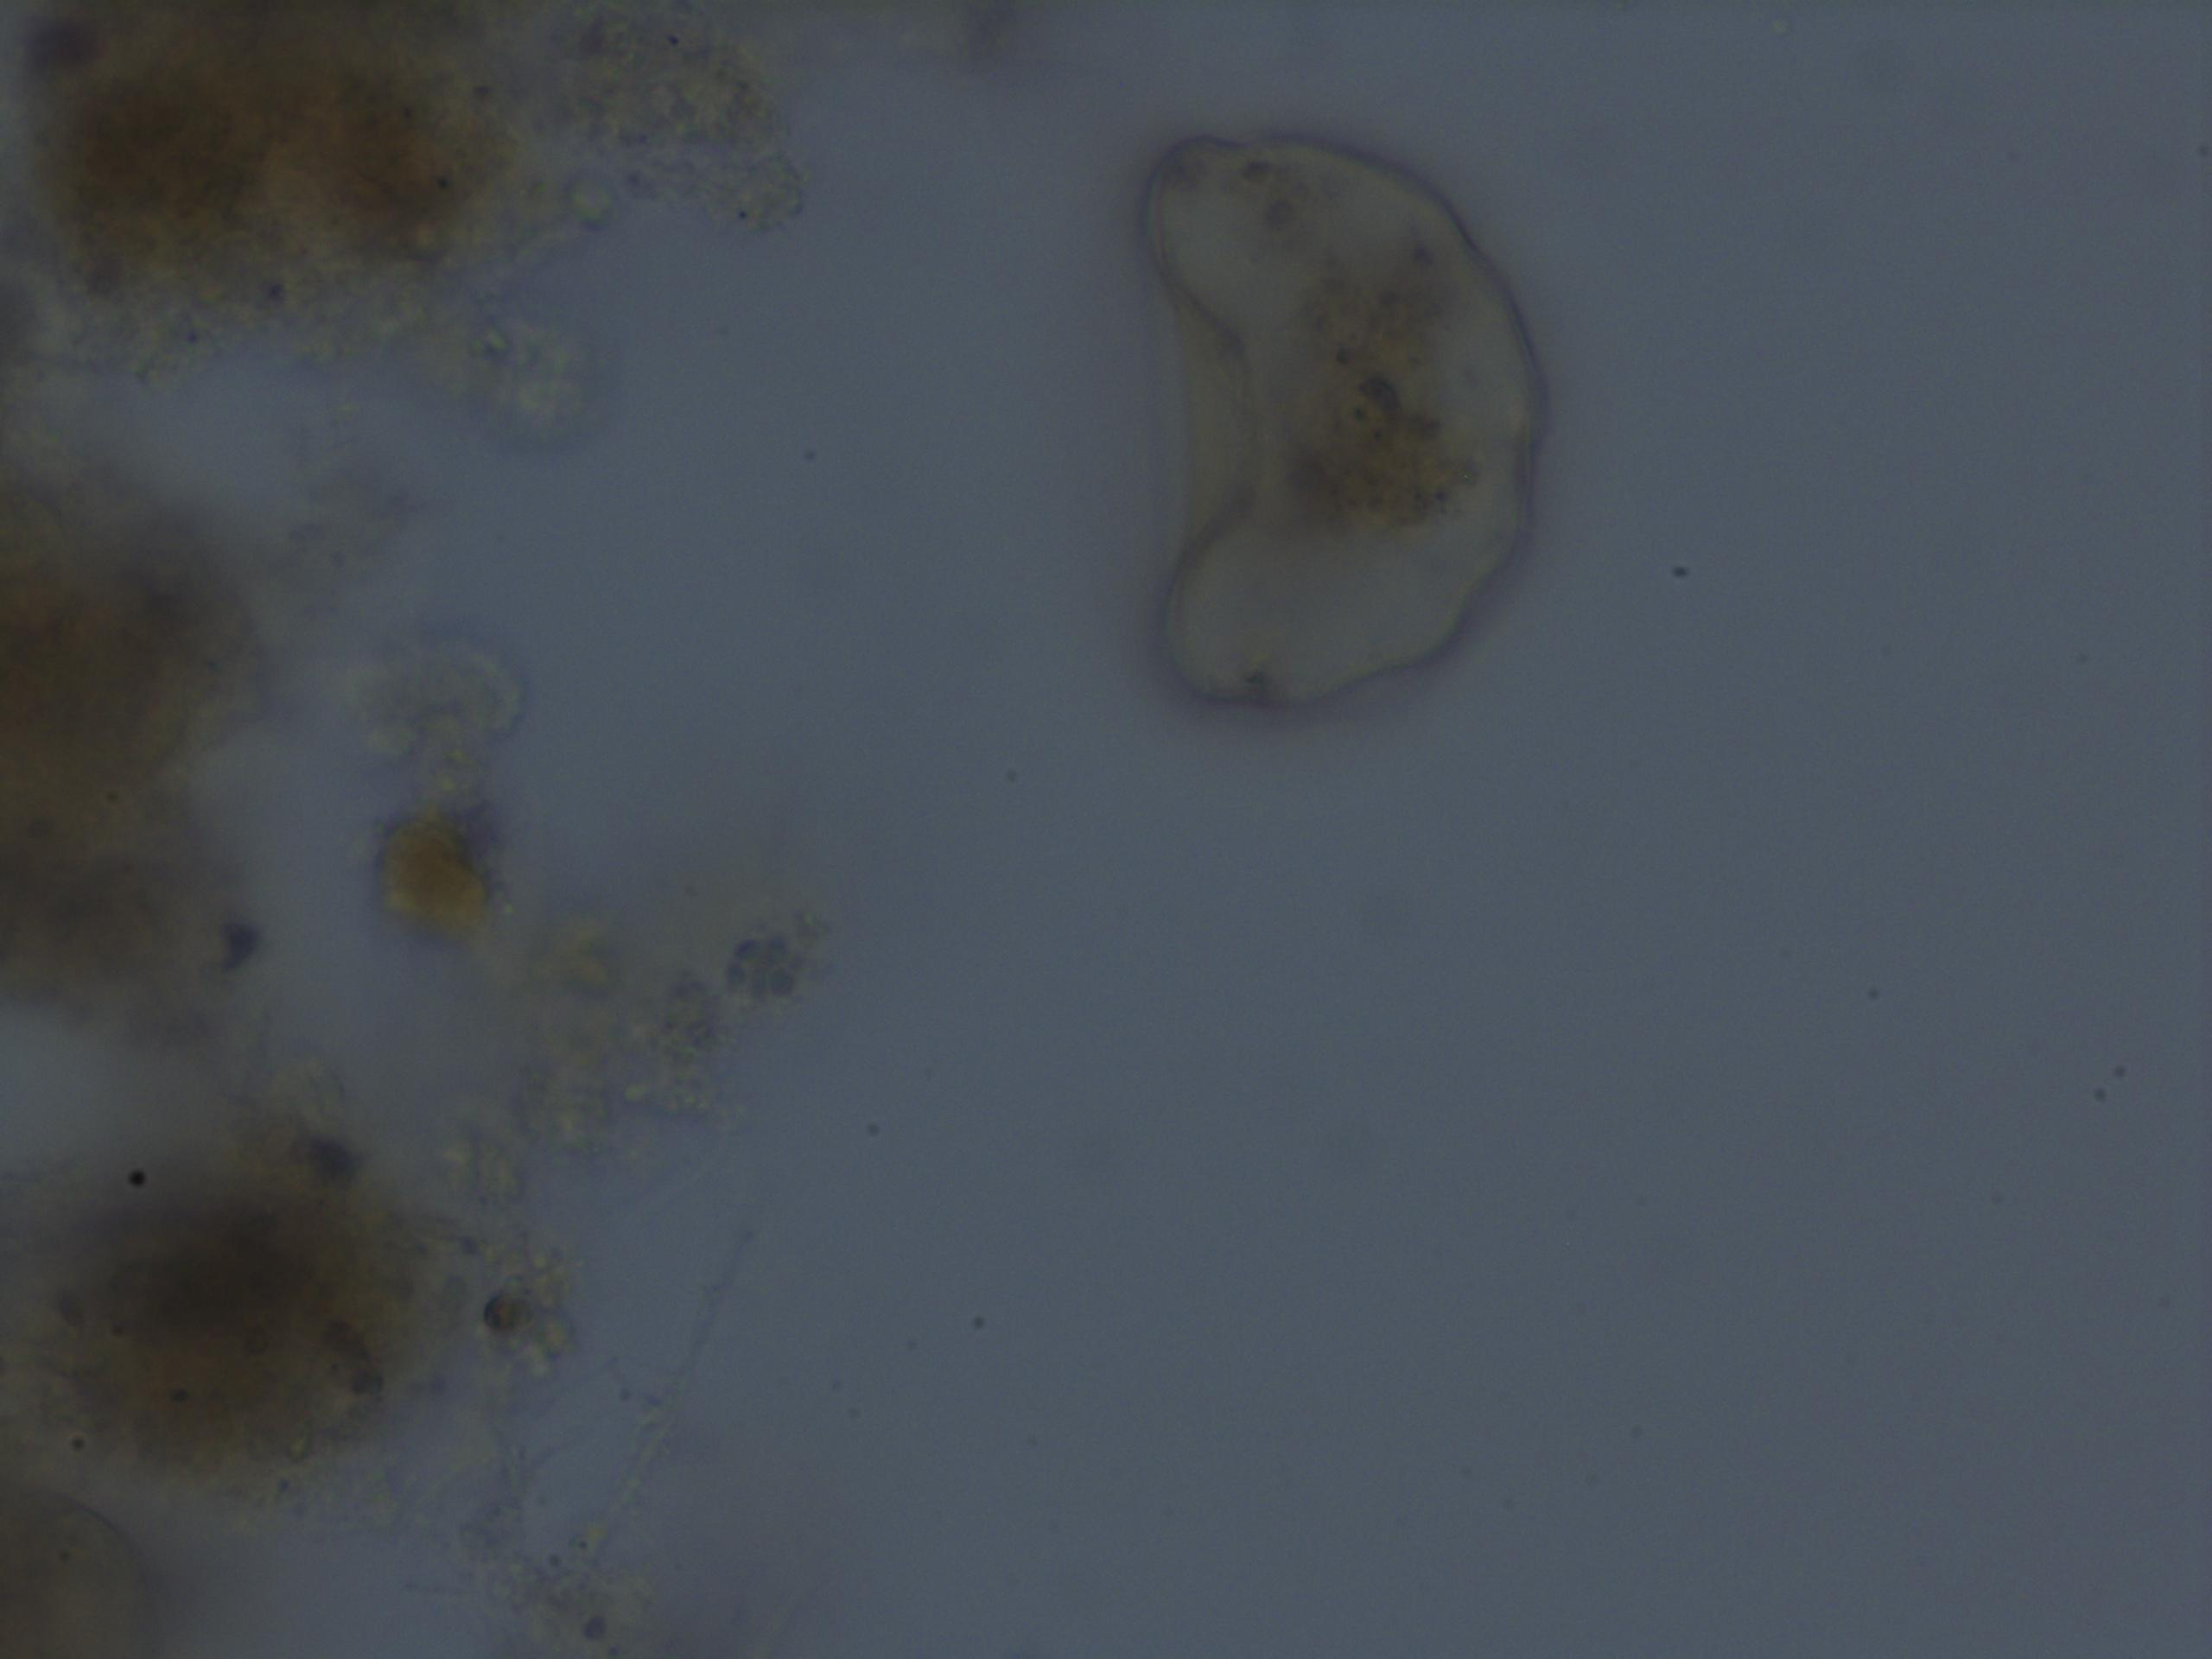protozoa: (1109, 122, 1568, 720)
